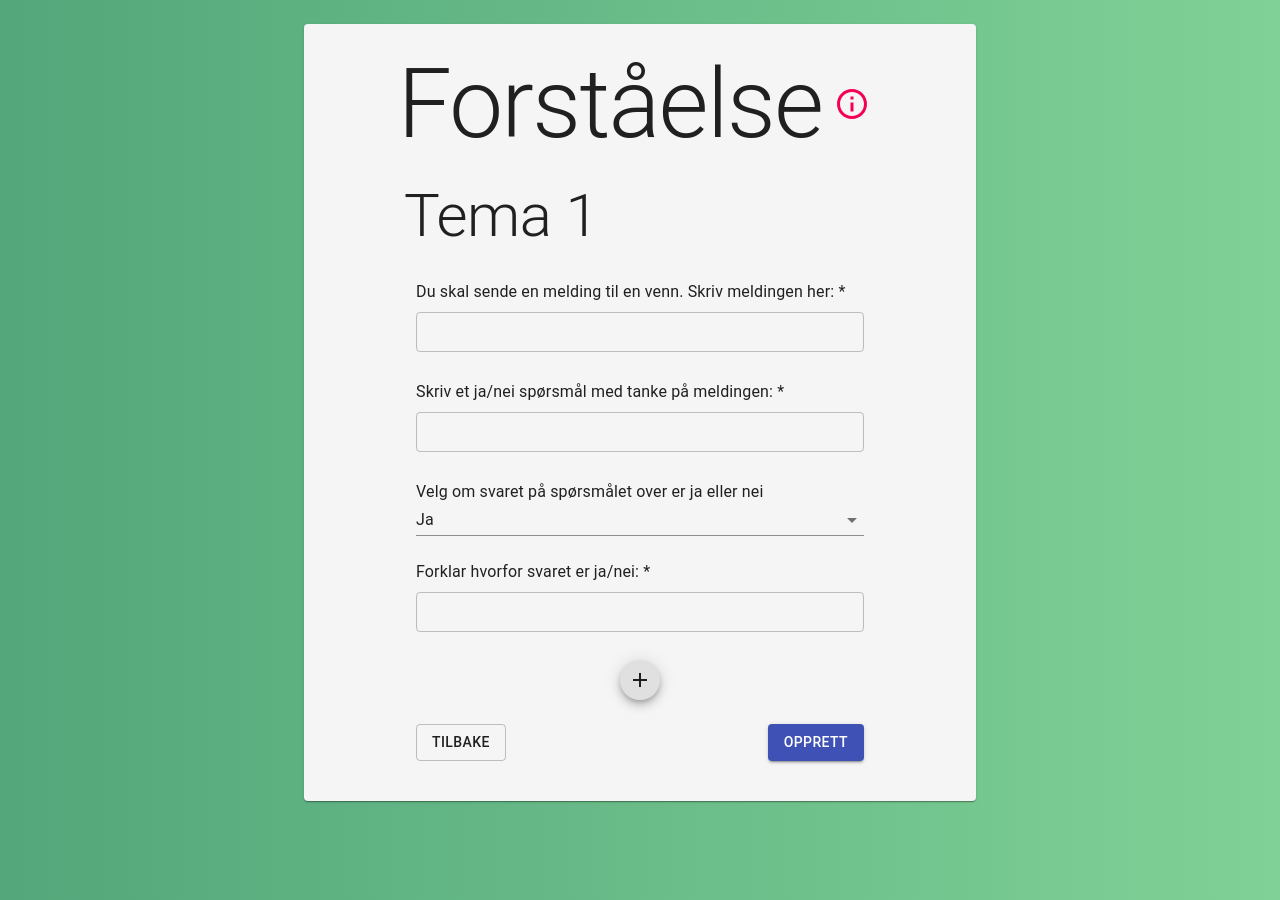
CreateForstaelse test › remove task button
Click the button with test id "addButton": x=640, y=680 [620,660,660,700]
(page scrolled)
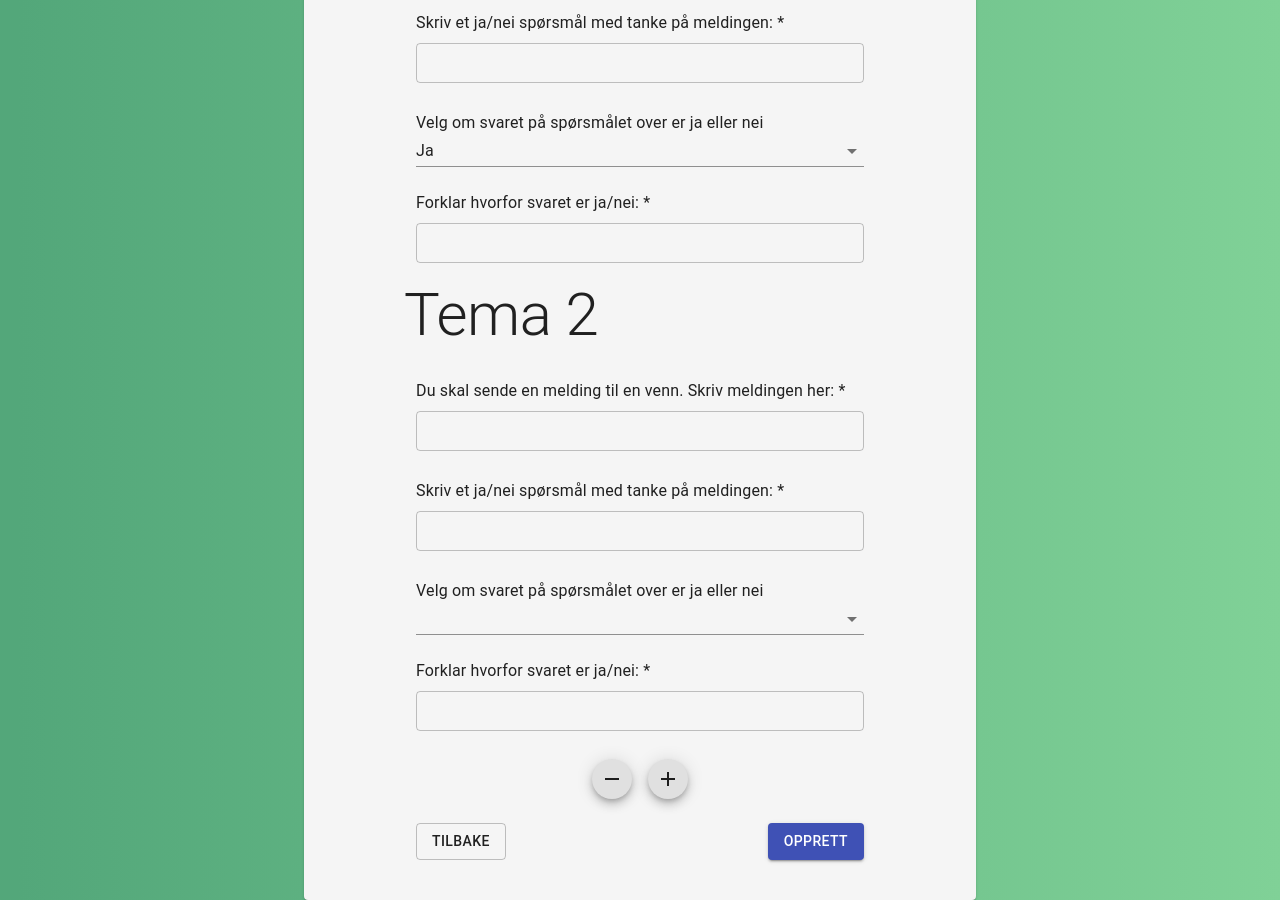
Click the button with test id "addButton": x=668, y=779 [648,759,688,799]
(page scrolled)
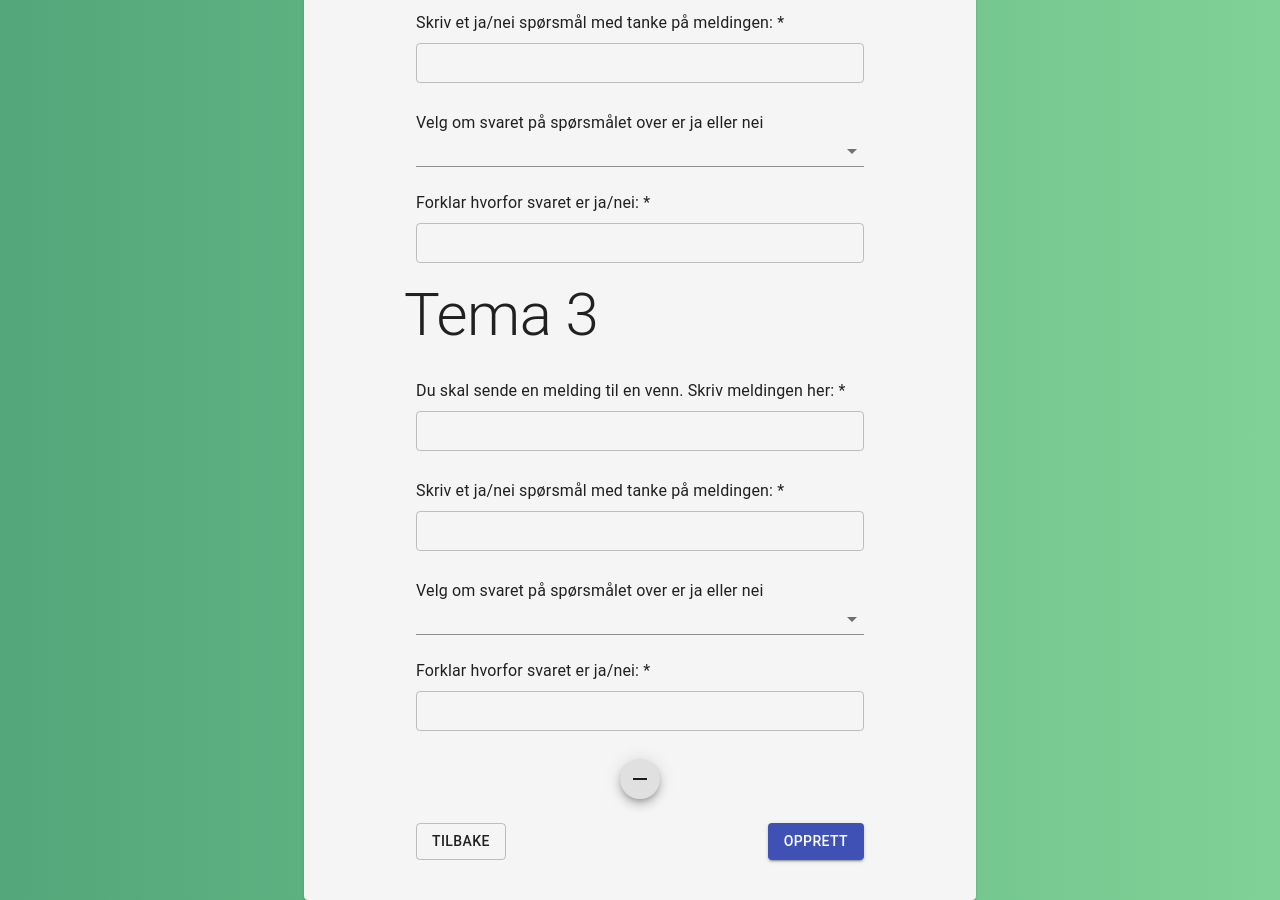
Expected: the text "Tema 3" is shown, [404,279,598,351]
Click the button with test id "removeButton": x=640, y=779 [620,759,660,799]
(page scrolled)
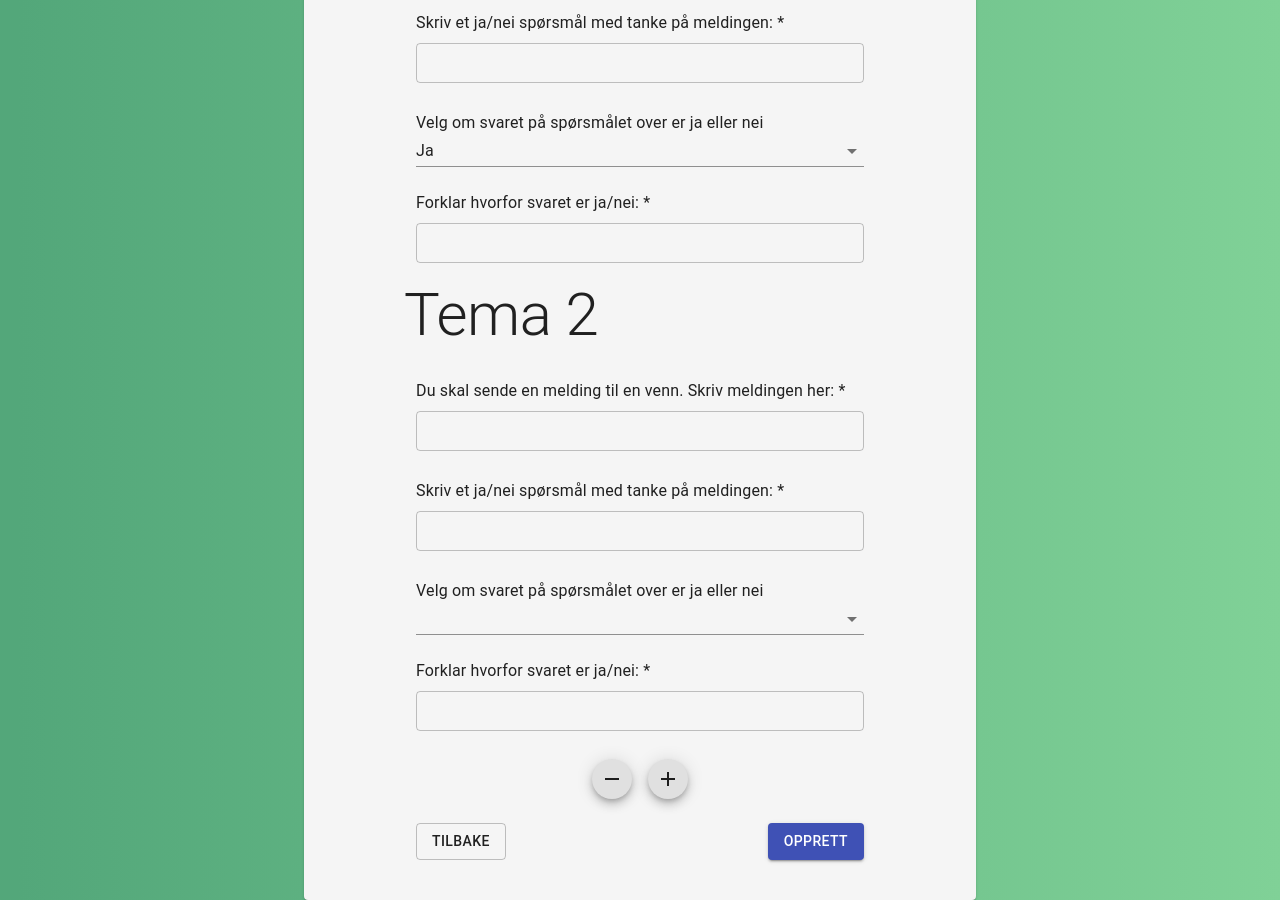
Expected: the button with test id "addButton" is shown, [648,759,688,799]
